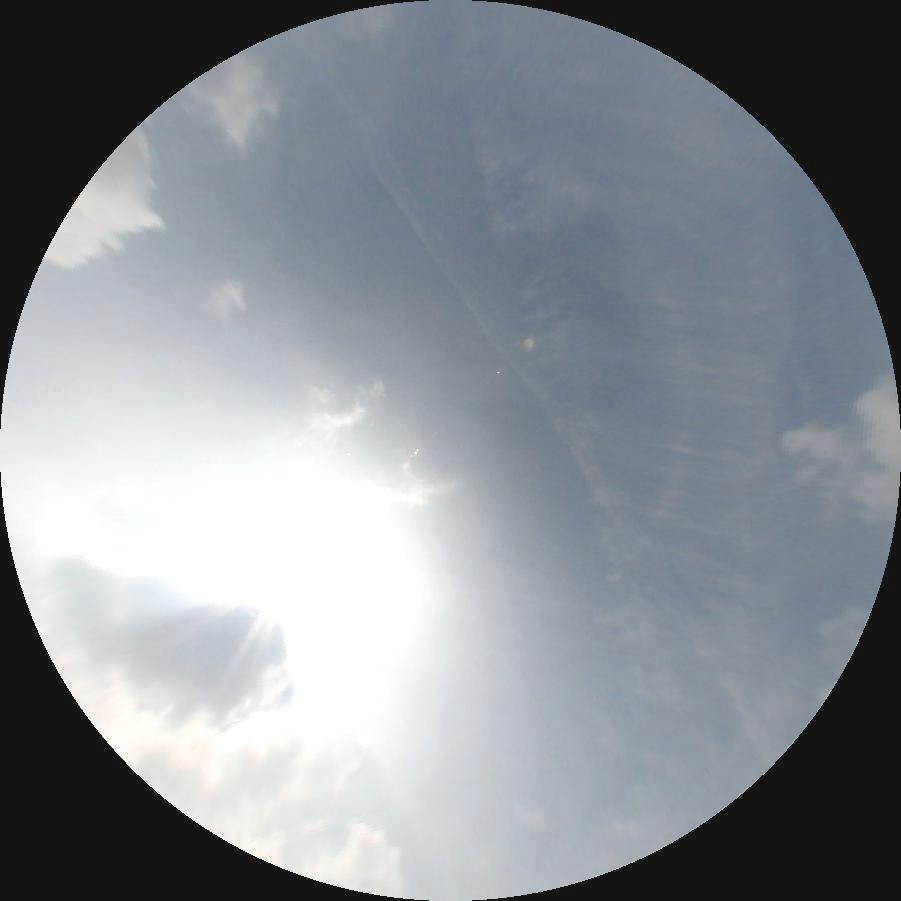contrail veryold: (295, 43, 786, 781)
sun: (191, 495, 392, 698)
